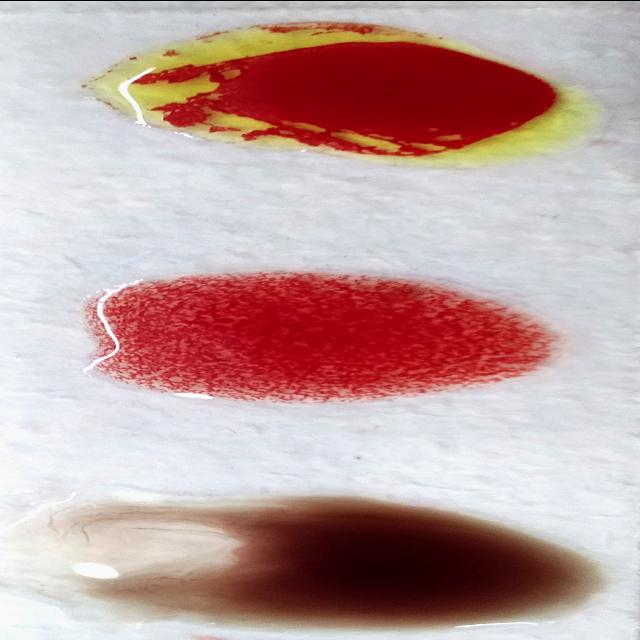B: (88, 26, 624, 166)
D: (68, 278, 550, 398)
